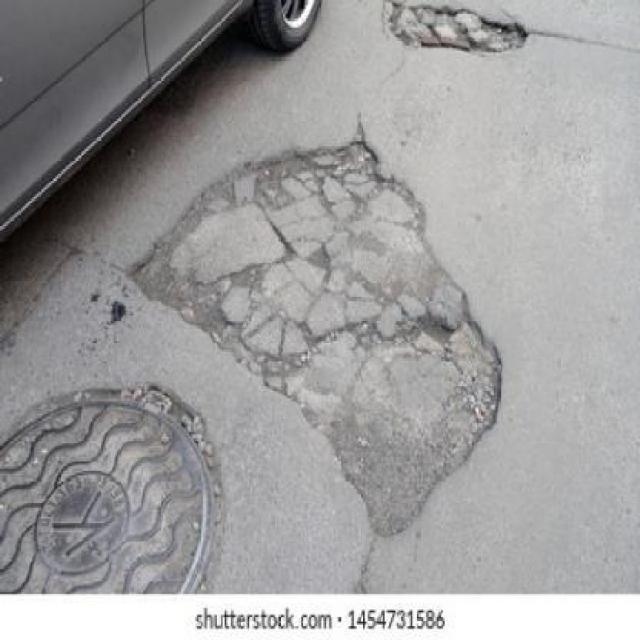Pothole: (127, 135, 507, 539), (0, 382, 218, 596), (389, 0, 528, 57)
